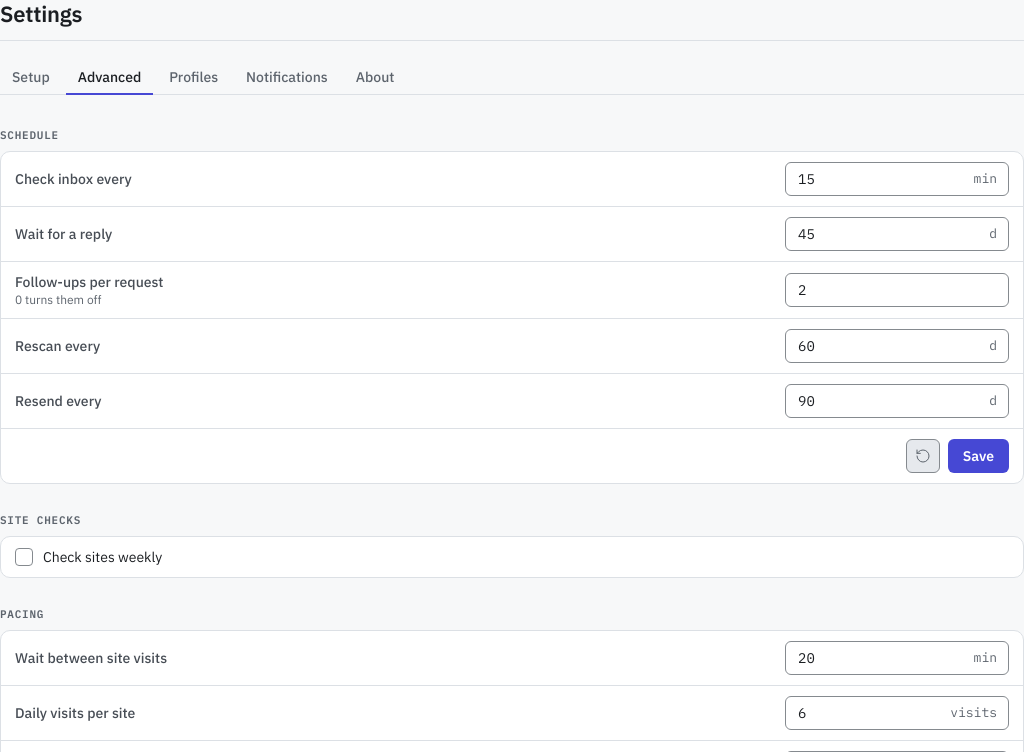
Test: general settings › explains a value that is out of range and does not send it
The image size is (1024, 752).
Replace the text in the number field labelled "Check inbox every" with "5000" at (897, 179), box [785,162,1009,196]
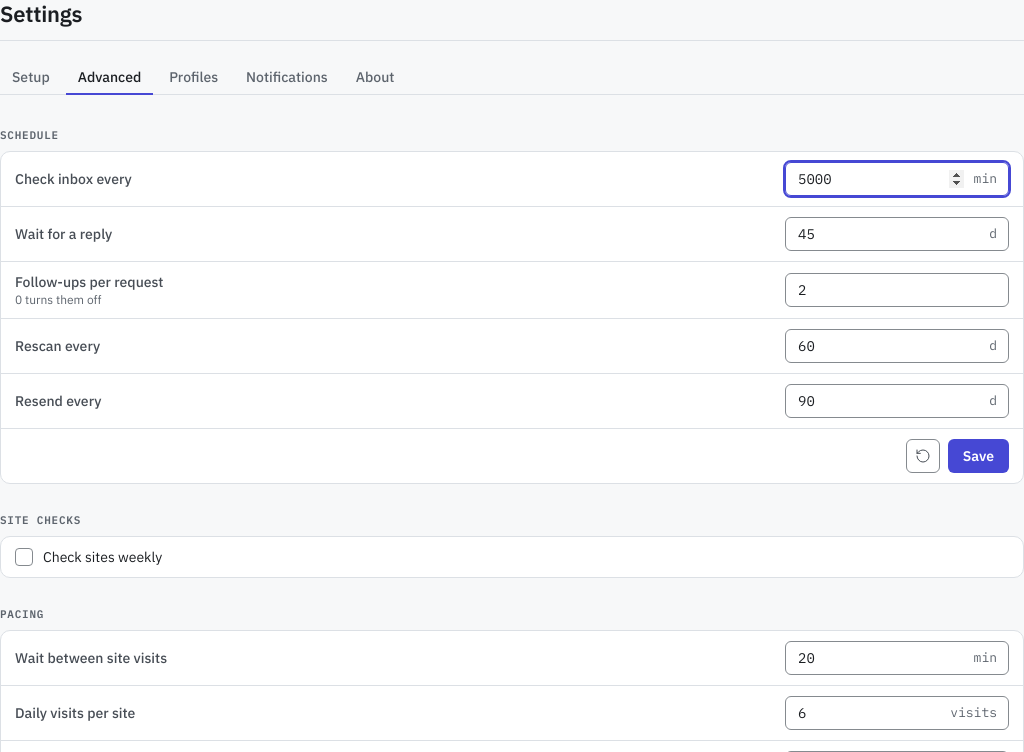
Click the button with aria-label "Save schedule" at (978, 456), box [948,439,1009,473]
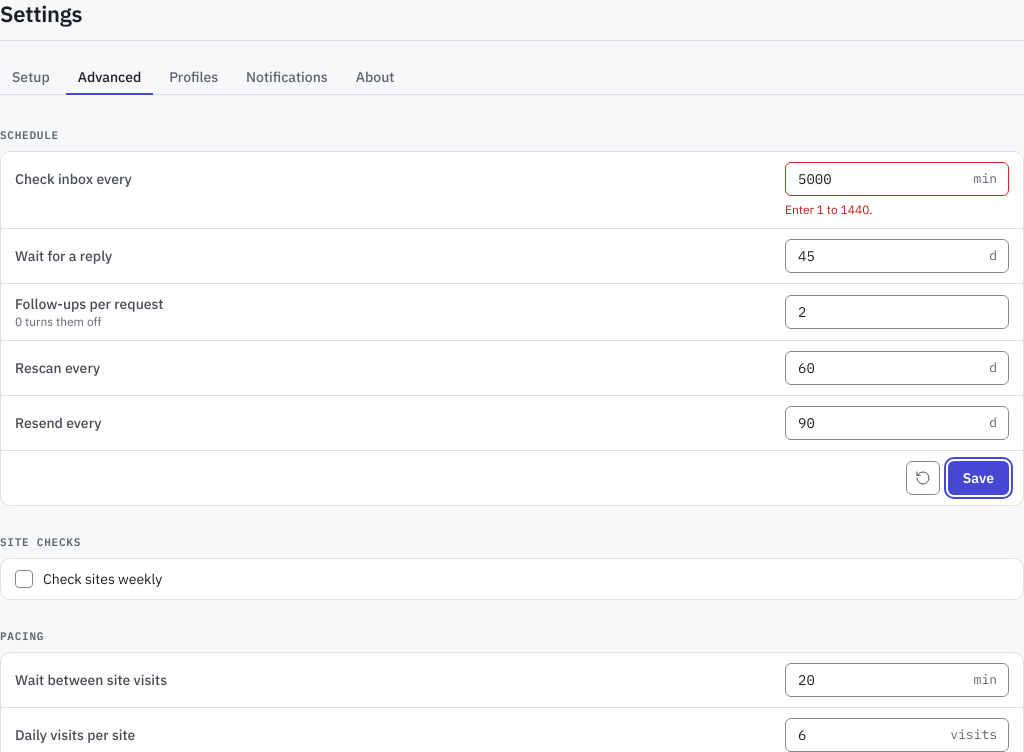
Expected: the text "Enter 1 to 1440." is shown, [785,202,873,217]
